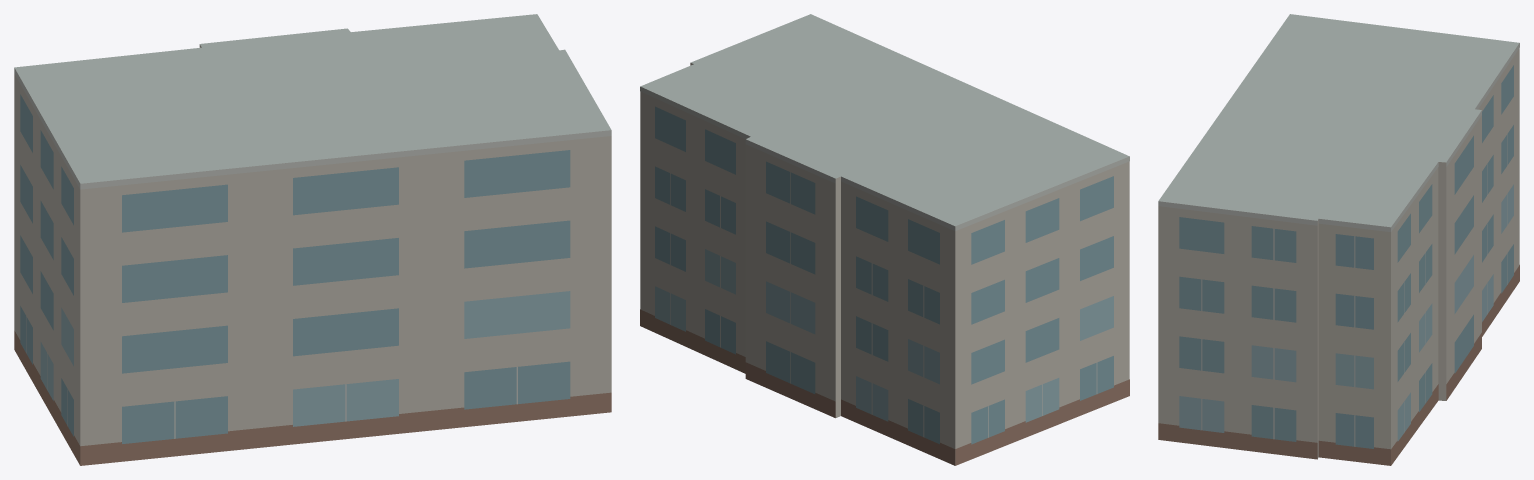
Rendered from survey-upis-32886048.glb.
The picture shows the model from 3 angles, left to right: view 1: azimuth 30°, elevation 25°; view 2: azimuth 150°, elevation 25°; view 3: azimuth 270°, elevation 25°; orthographic projection. The views are drawn at different scales.
Parts seen in each view (by area): view 1: survey-upis-32886048.tmp; view 2: survey-upis-32886048.tmp; view 3: survey-upis-32886048.tmp.
Part boxes in pixels (box(x1,y1,x2,y2)): survey-upis-32886048.tmp: box(14, 14, 611, 465); survey-upis-32886048.tmp: box(640, 14, 1129, 465); survey-upis-32886048.tmp: box(1158, 14, 1519, 465).
Size of the model in its own units: 22.72 by 11.85 by 16.28.
